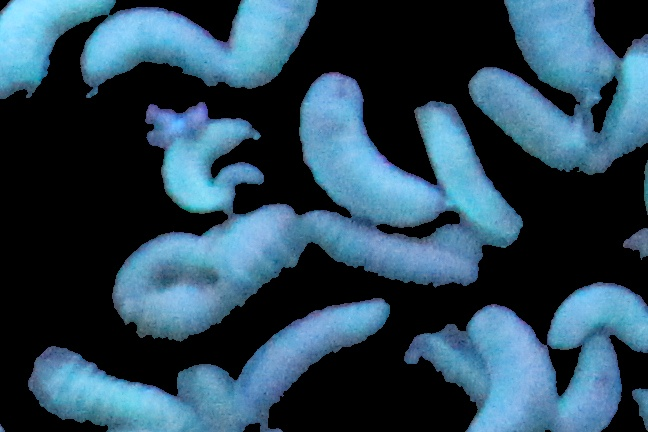larvae: (289, 72, 442, 227), (141, 206, 297, 338), (237, 298, 389, 425), (416, 100, 520, 243), (299, 210, 475, 286), (29, 347, 176, 432), (83, 8, 225, 92), (469, 68, 584, 171), (467, 303, 558, 432), (495, 1, 621, 92), (1, 1, 104, 103), (155, 121, 259, 213), (113, 219, 200, 326), (223, 1, 318, 89), (547, 270, 648, 352), (594, 37, 648, 174), (559, 336, 624, 432), (175, 363, 237, 432)
